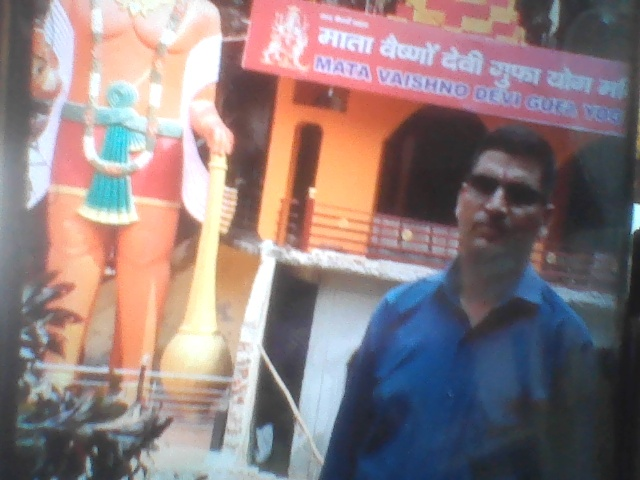fake: (438, 112, 554, 276)
